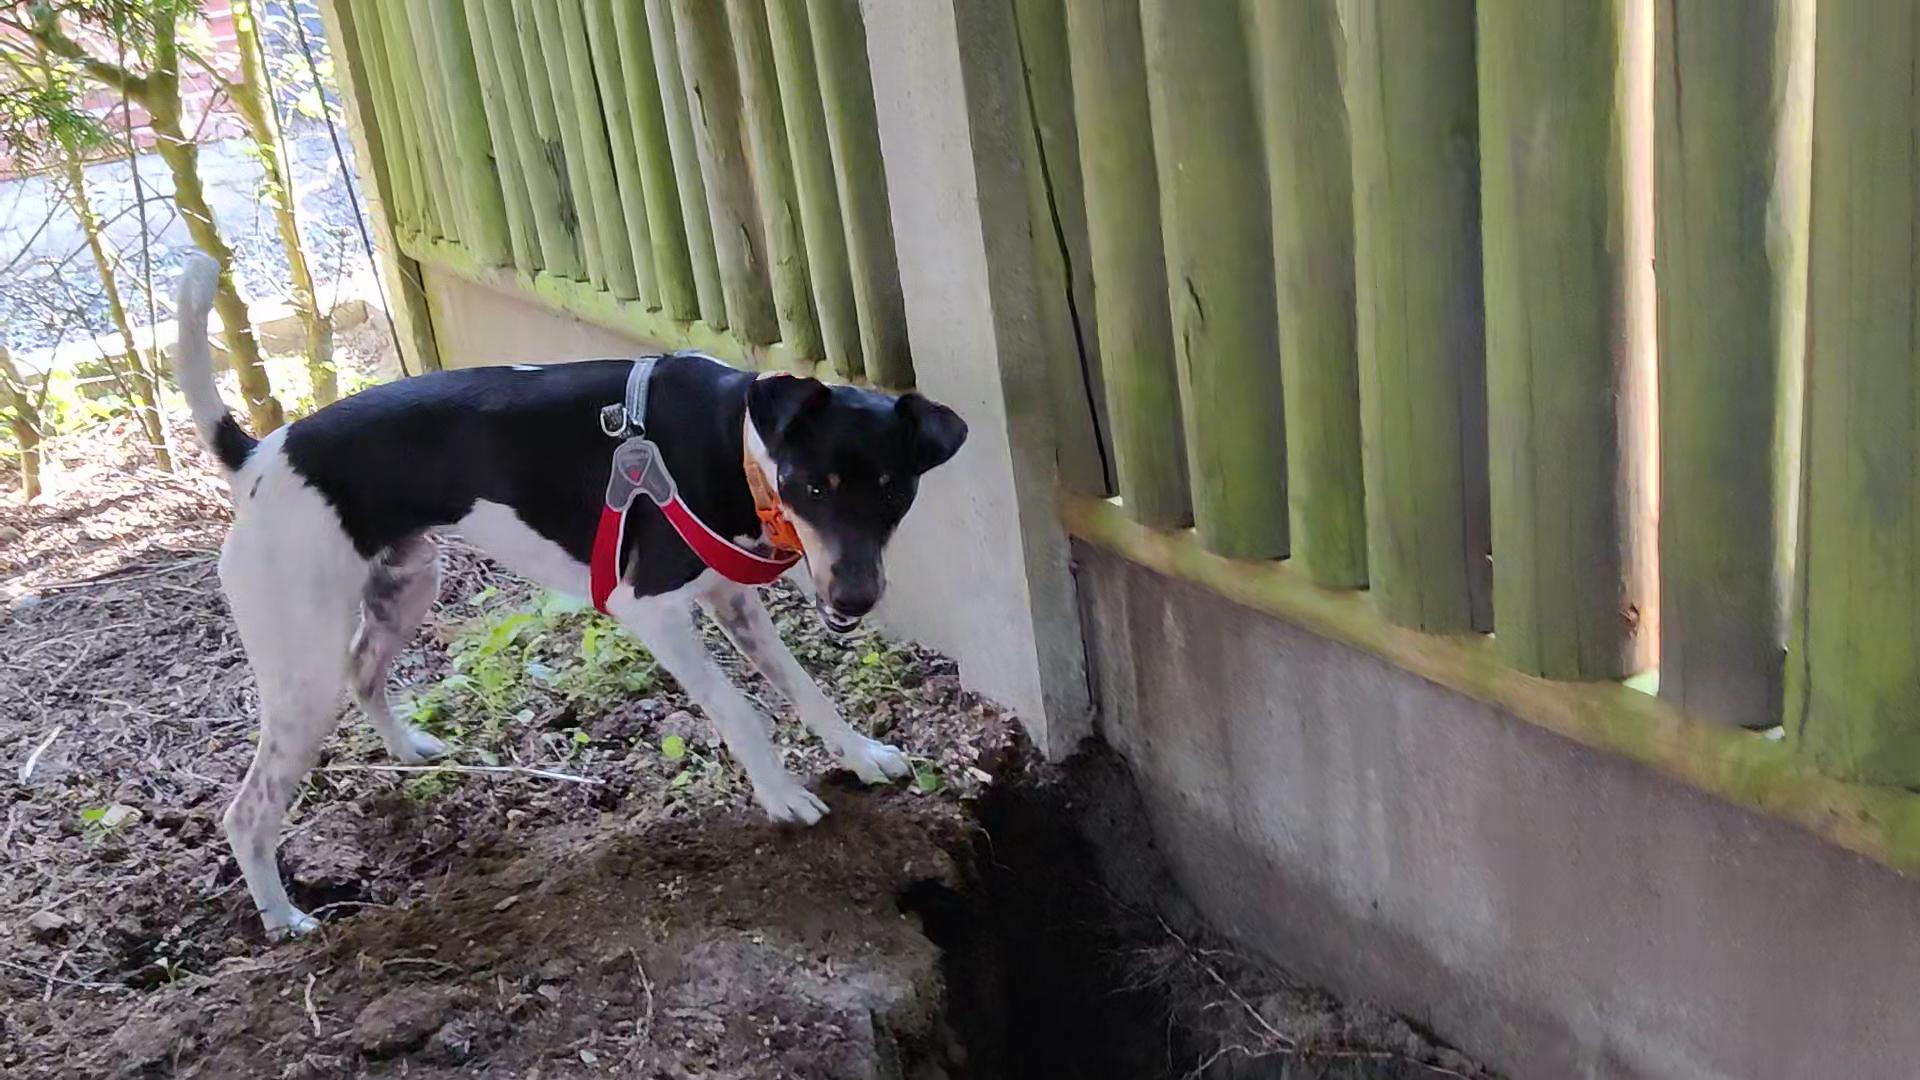Dog: (131, 233, 998, 943)
